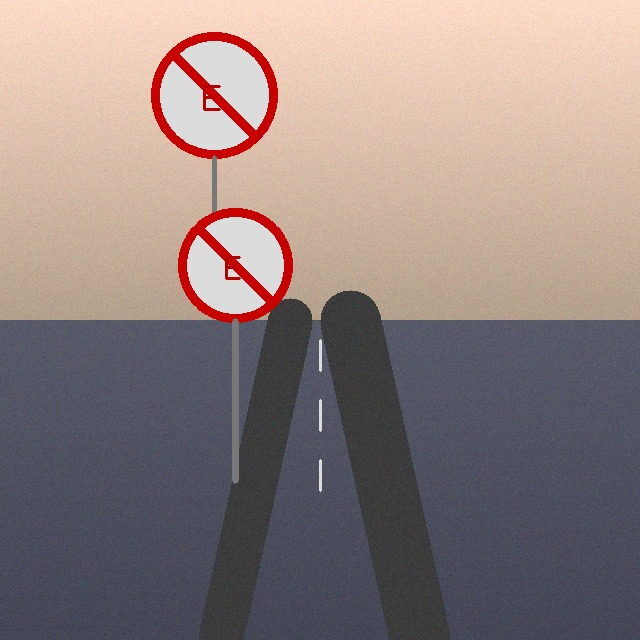no_estacionar: (153, 34, 276, 157), (180, 210, 291, 321)
